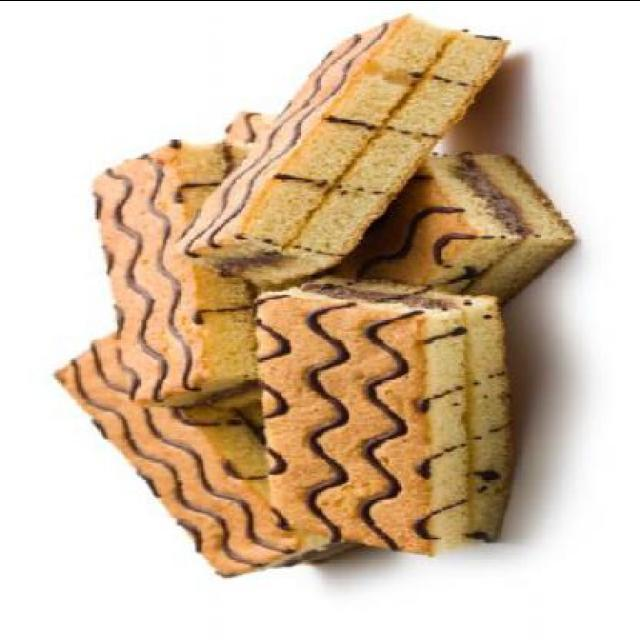Merendine packaged: (172, 10, 520, 281), (248, 277, 518, 554), (52, 330, 338, 572), (94, 136, 292, 408)
